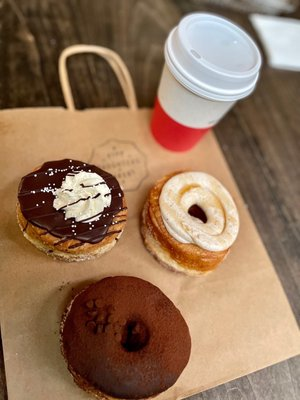pizza: (152, 12, 263, 140)
